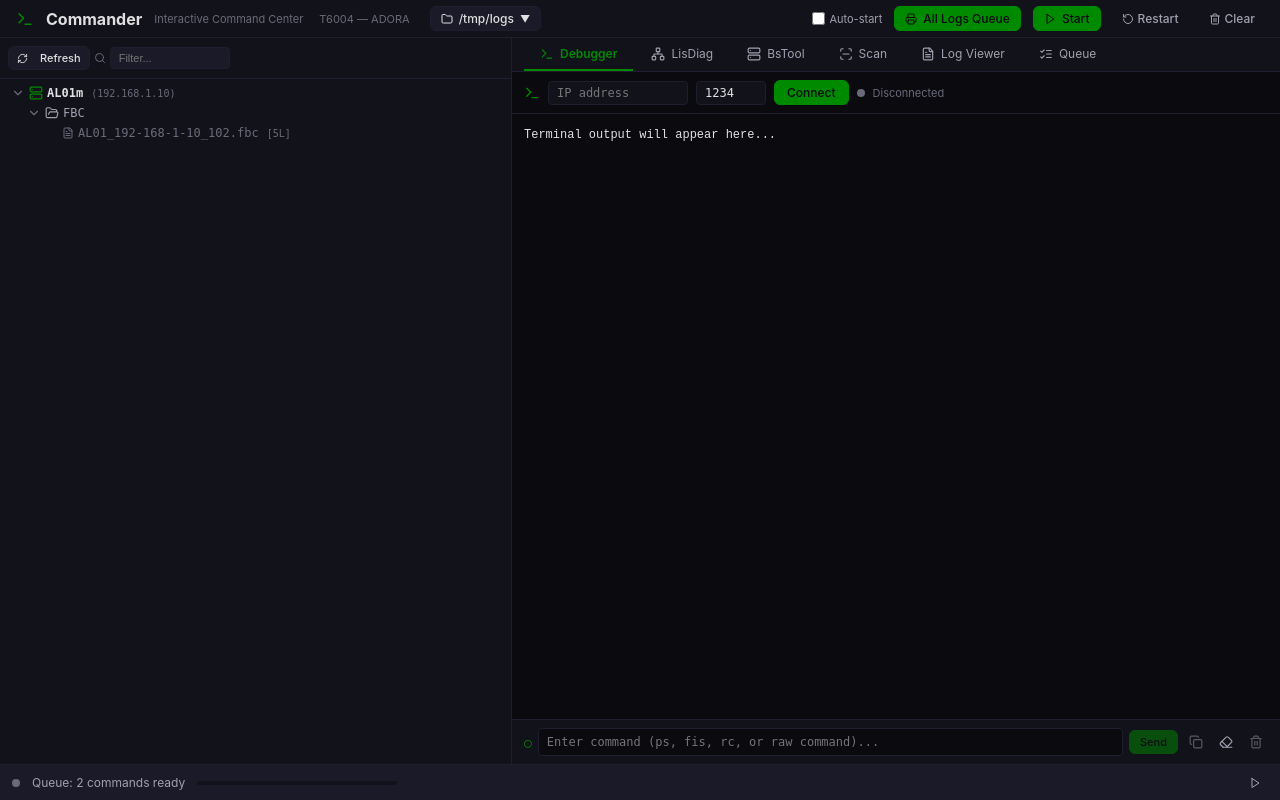
Scenario: CommanderLayout › switches to Queue tab when clicked
expect the button "Debugger" is shown: met, box [524, 38, 634, 71]
Click the button "Queue": (1068, 54) [1023, 38, 1112, 71]
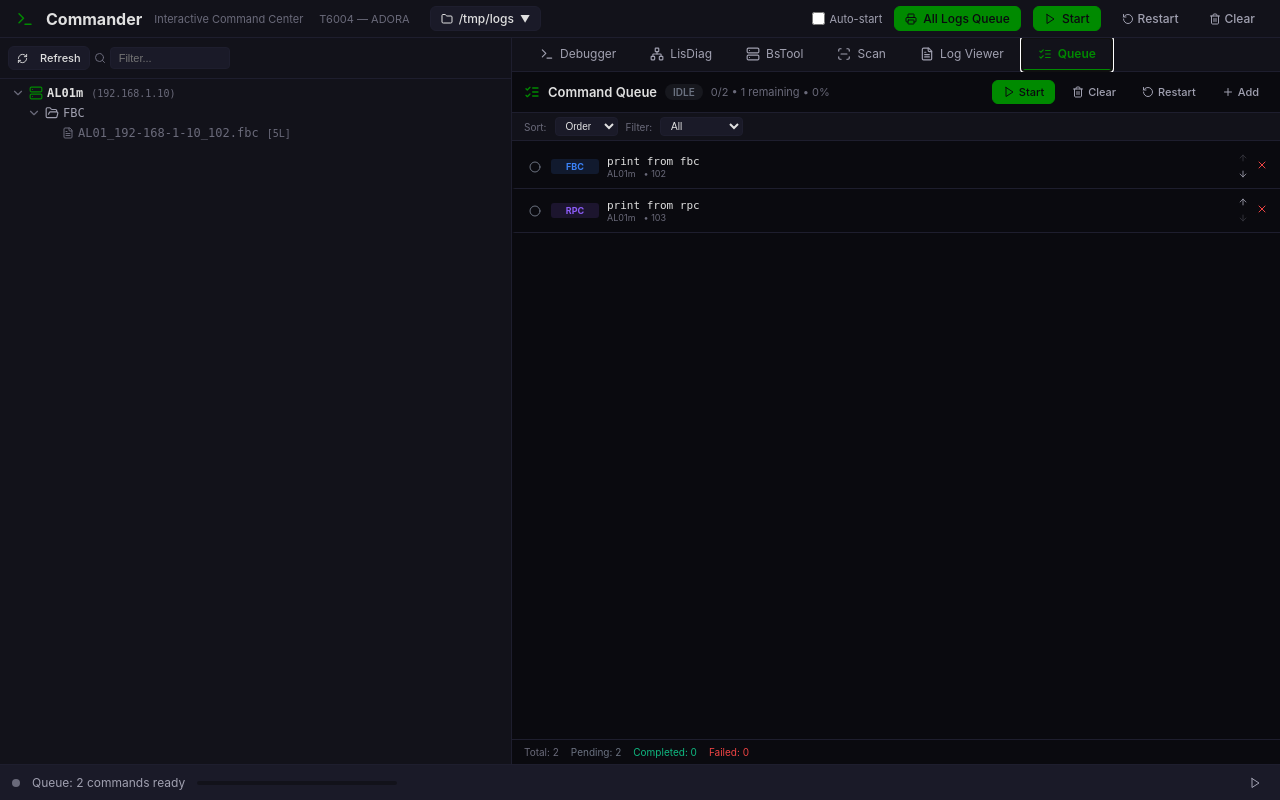
expect the text "Command Queue" is shown: met, box [548, 84, 657, 100]
